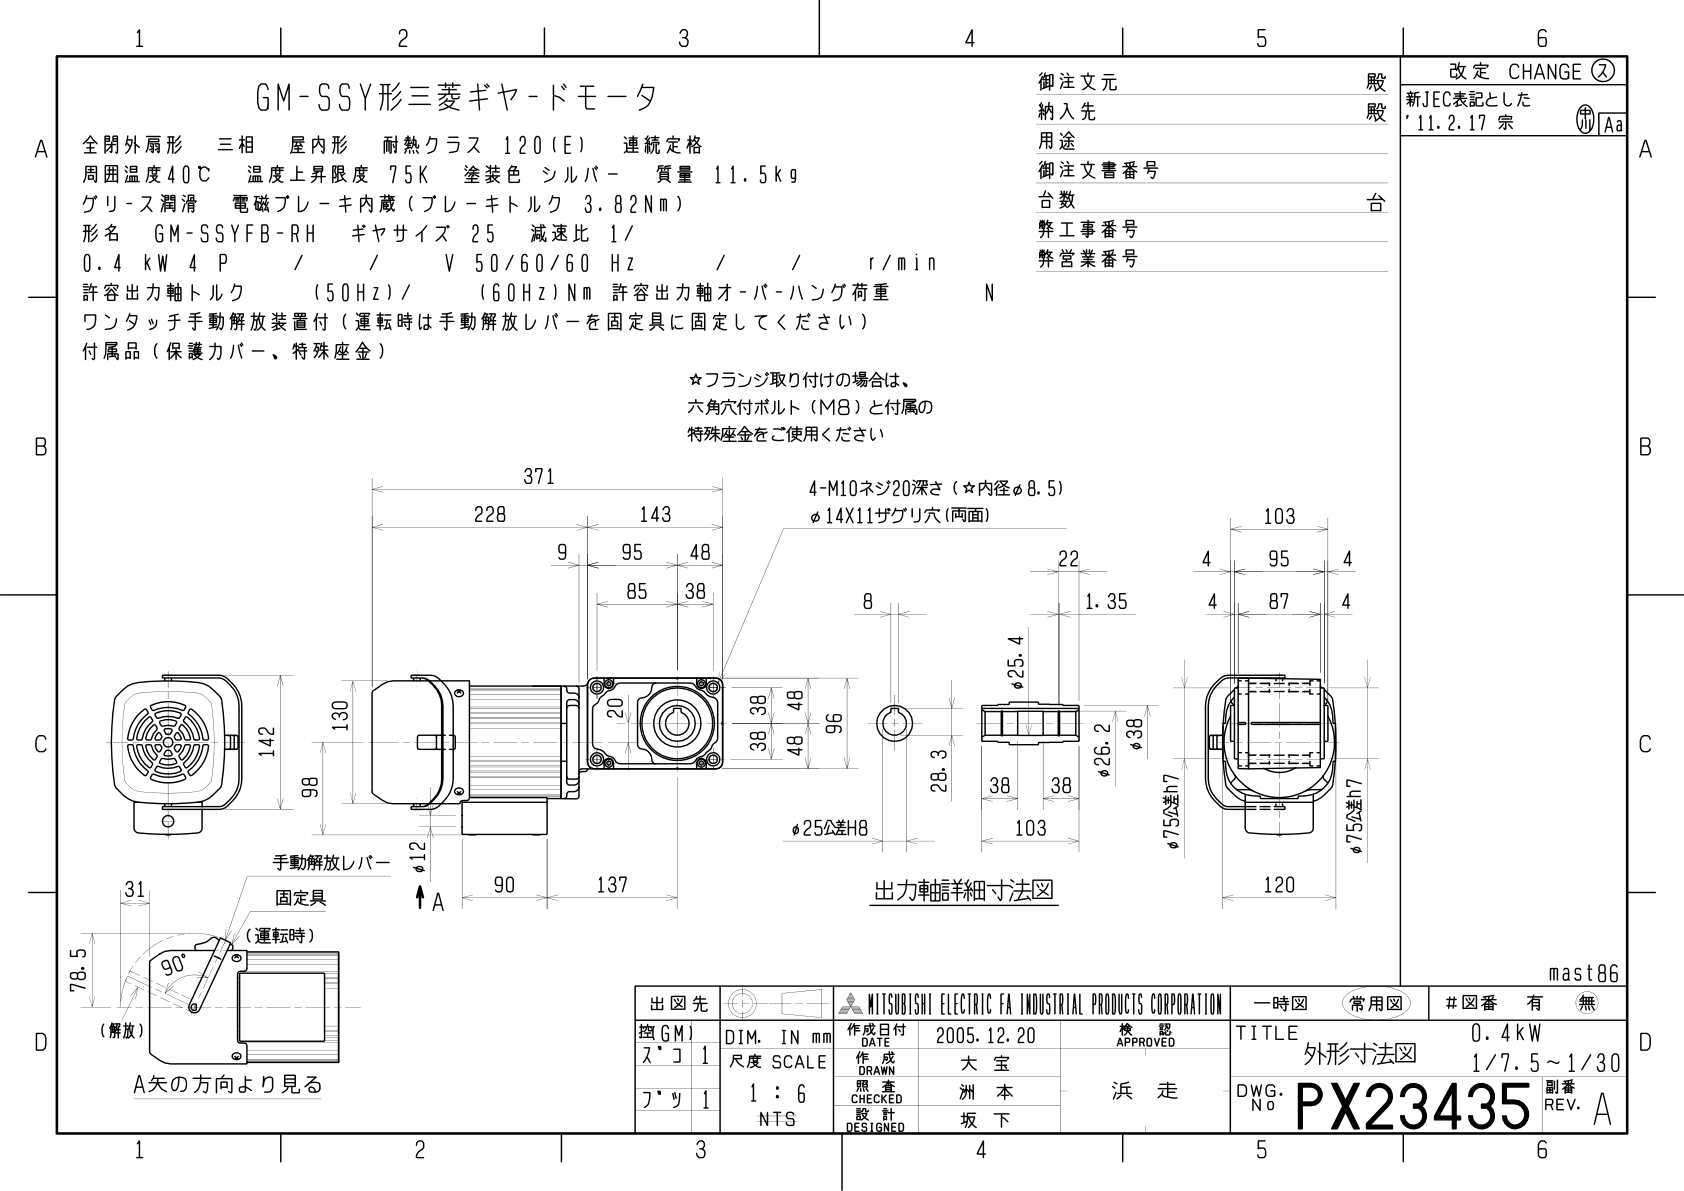GM_SSY_手動解放_三相: (70, 363, 1379, 965)
